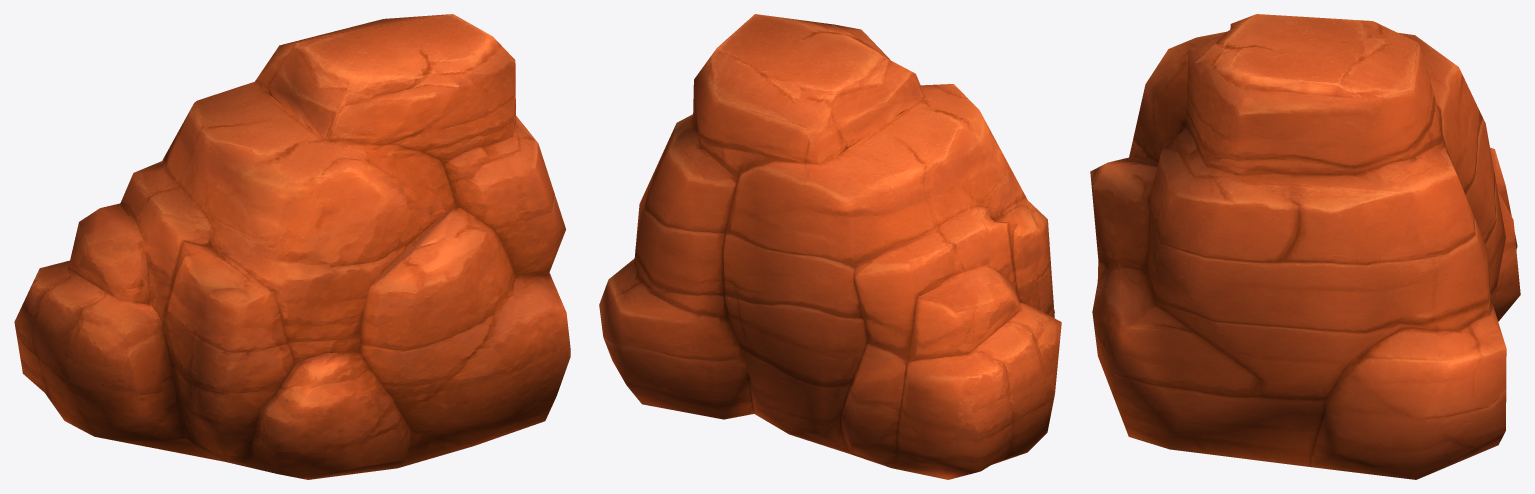
The model's file is Meshy_AI_Emberstone_Heap_0512181912_texture.fbx.
3 renders of one model, left to right at view 1: azimuth 30°, elevation 25°; view 2: azimuth 150°, elevation 25°; view 3: azimuth 270°, elevation 25°, orthographic. The views are drawn at different scales.
Parts seen in each view (by area): view 1: Mesh_0; view 2: Mesh_0; view 3: Mesh_0.
Boxes of the visible parts, x1,y1,x2,y2 form: Mesh_0: (14, 14, 570, 479); Mesh_0: (599, 14, 1061, 479); Mesh_0: (1090, 14, 1520, 479).
Size of the model in its own units: 191 by 136 by 144.
1 material, 1 textured.
